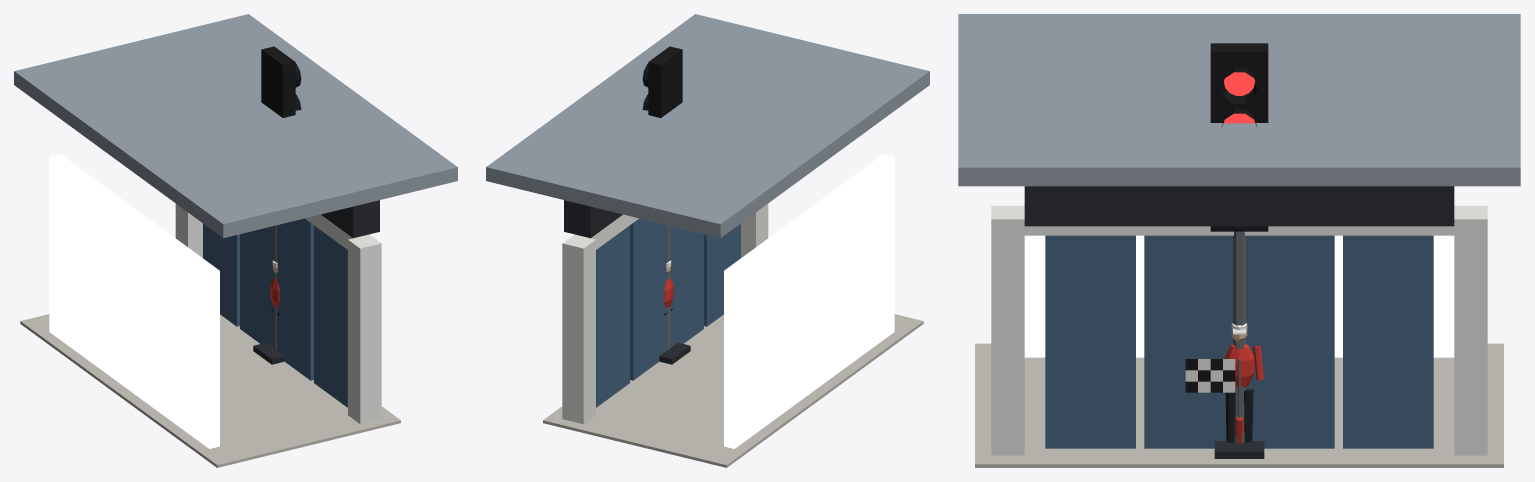
Rendered from city4.glb.
The picture shows the model from 3 angles, left to right: view 1: azimuth 30°, elevation 25°; view 2: azimuth 150°, elevation 25°; view 3: azimuth 270°, elevation 25°; orthographic projection. The views are drawn at different scales.
Visible parts, largest first — view 1: C4_Entrance, C4_LampPole; view 2: C4_Entrance, C4_LampPole; view 3: C4_Entrance, C4_LampPole, C4_Starter, C4_StarterArm, C4_Lamp1.
Boxes of the visible parts, left/top/right/bottom form: C4_Entrance: left=14, top=14, right=457, bottom=467; C4_LampPole: left=253, top=46, right=301, bottom=364; C4_Entrance: left=486, top=14, right=929, bottom=467; C4_LampPole: left=642, top=46, right=690, bottom=364; C4_Entrance: left=958, top=14, right=1520, bottom=467; C4_LampPole: left=1210, top=43, right=1268, bottom=458; C4_Starter: left=1224, top=323, right=1263, bottom=442; C4_StarterArm: left=1185, top=358, right=1243, bottom=443; C4_Lamp1: left=1224, top=72, right=1254, bottom=95.
Size of the model in its own units: 4.4 by 5.41 by 6.8.
